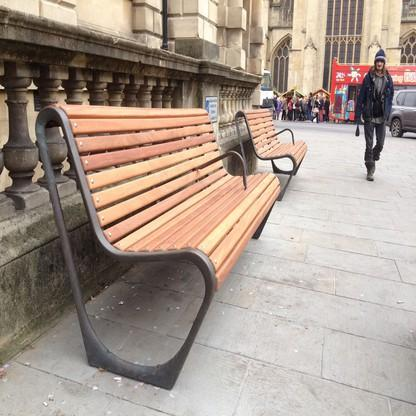obstacle: (21, 93, 285, 389)
